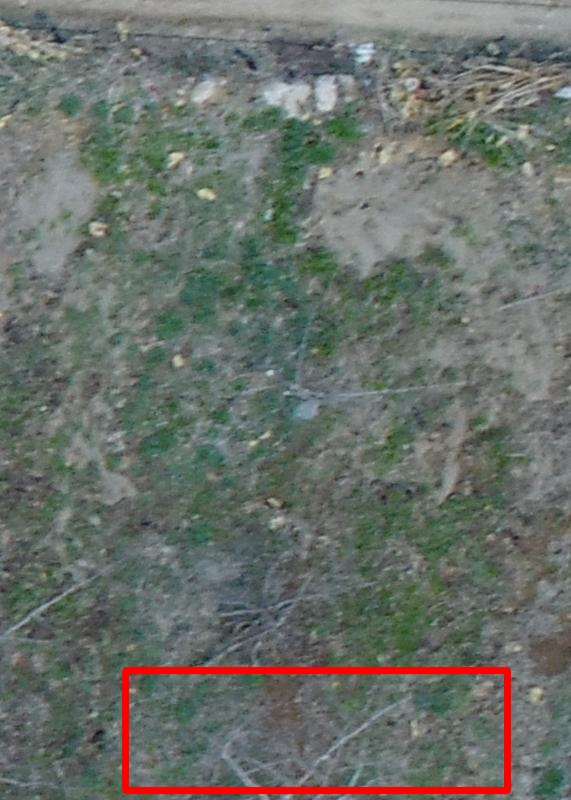apple: (125, 670, 507, 790)
